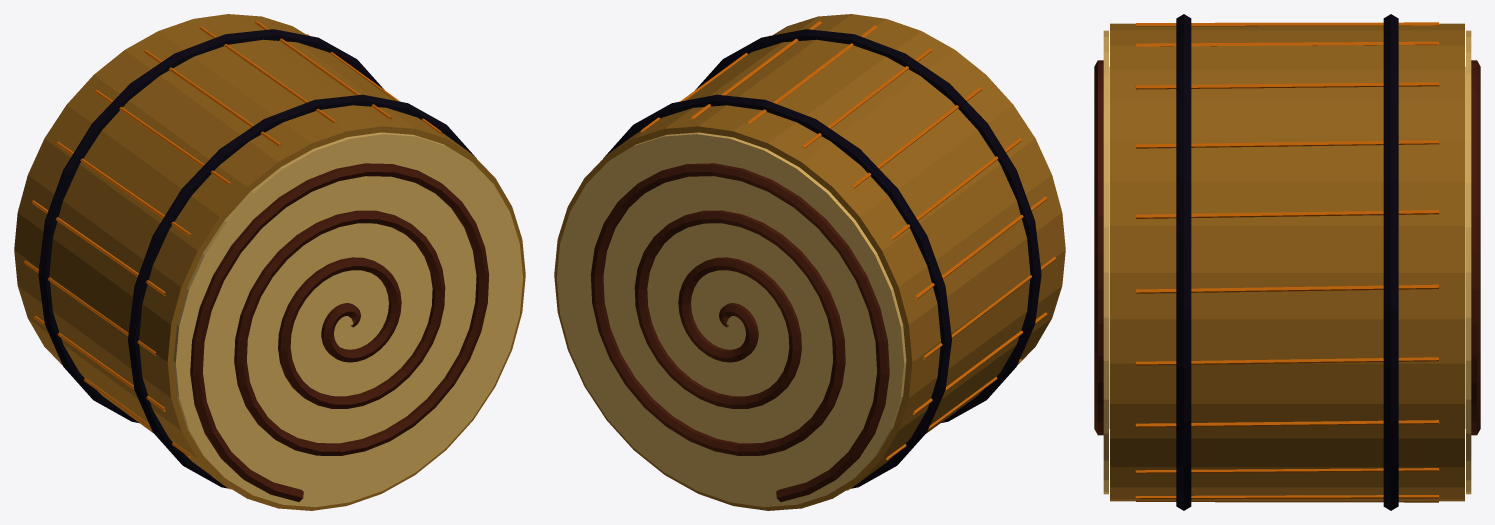
File: hay_roll_neon6.fbx
3 renders of one model, left to right at view 1: azimuth 30°, elevation 25°; view 2: azimuth 150°, elevation 25°; view 3: azimuth 270°, elevation 25°, orthographic. The views are drawn at different scales.
Visible parts, largest first — view 1: Part_0, Part_2, Part_1; view 2: Part_0; view 3: Part_0, Part_1, Part_2.
Boxes of the visible parts, bbox=[...] form: Part_0: bbox=[14, 14, 476, 489]; Part_2: bbox=[189, 126, 509, 510]; Part_1: bbox=[167, 129, 525, 508]; Part_0: bbox=[554, 14, 1065, 510]; Part_0: bbox=[1110, 14, 1480, 510]; Part_1: bbox=[1094, 98, 1109, 494]; Part_2: bbox=[1094, 30, 1109, 435].
Bounding box in the file's own units: 1.8 × 1.8 × 1.39.
